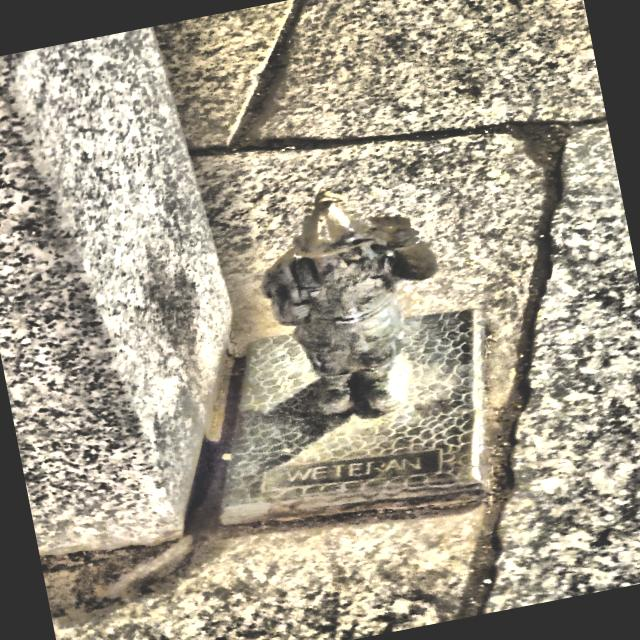Weteran: (262, 190, 437, 415)
